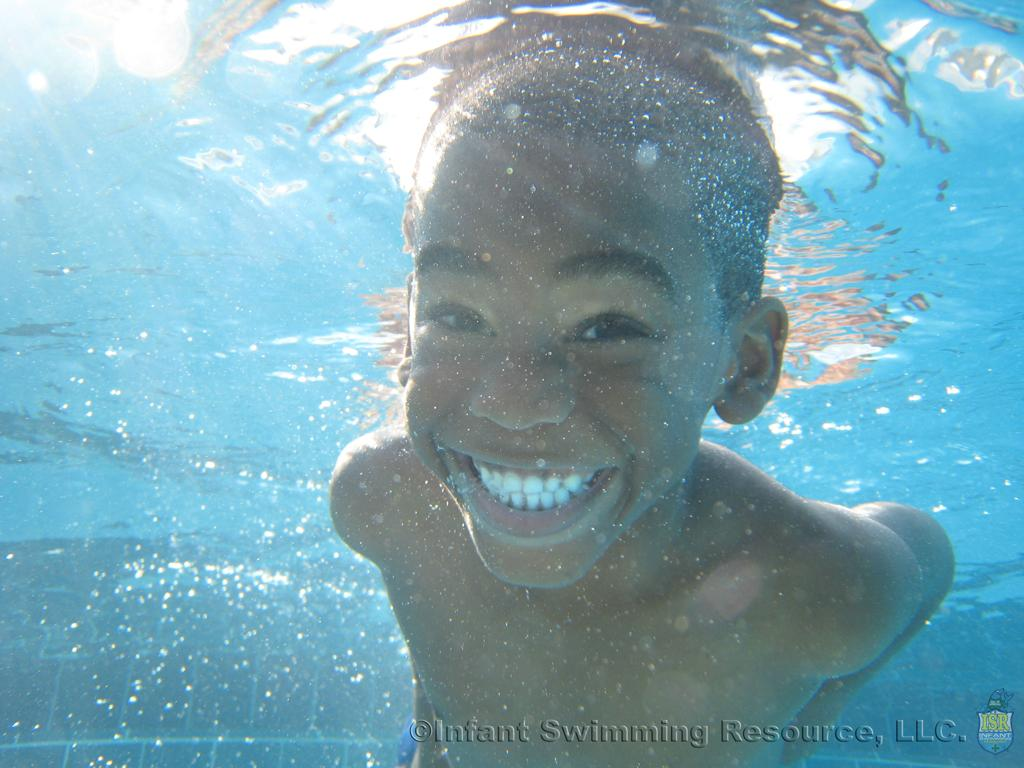face: (416, 184, 704, 582)
